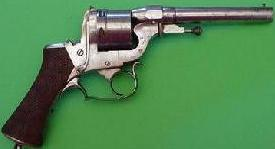gun: (1, 1, 275, 149)
